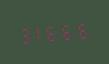one: (32, 21, 45, 44)
six: (46, 20, 59, 43), (60, 19, 73, 42), (74, 18, 87, 41)
three: (18, 23, 31, 45)
